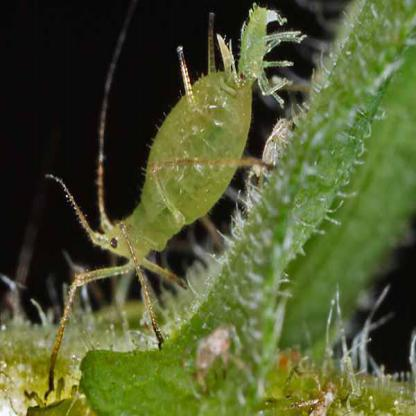uroleucon compositae: (54, 6, 268, 370)
